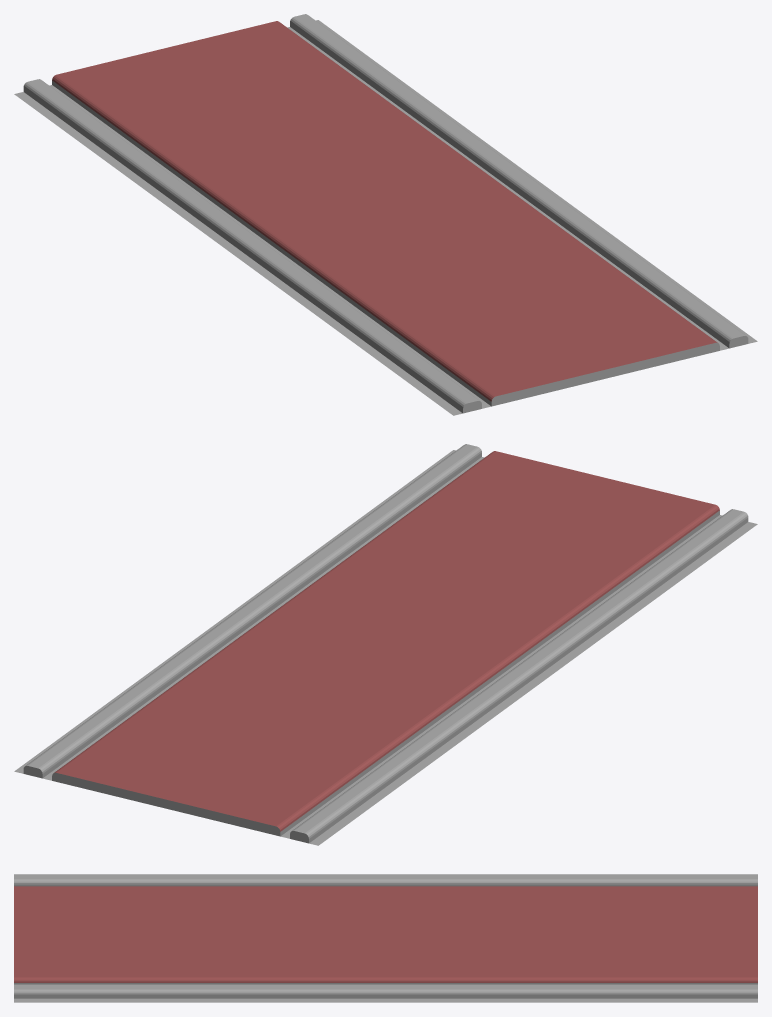
The model's file is straight3.fbx.
The picture shows the model from 3 angles, top to bottom: view 1: azimuth 30°, elevation 25°; view 2: azimuth 150°, elevation 25°; view 3: azimuth 270°, elevation 25°; orthographic projection. The views are drawn at different scales.
Parts seen in each view (by area): view 1: pasted__Straight1; view 2: pasted__Straight1; view 3: pasted__Straight1.
Boxes of the visible parts, <box> form: pasted__Straight1: <box>14,14,757,415</box>; pasted__Straight1: <box>14,444,757,845</box>; pasted__Straight1: <box>14,874,757,1002</box>.
Bounding box in the file's own units: 160 × 4.56 × 400.
